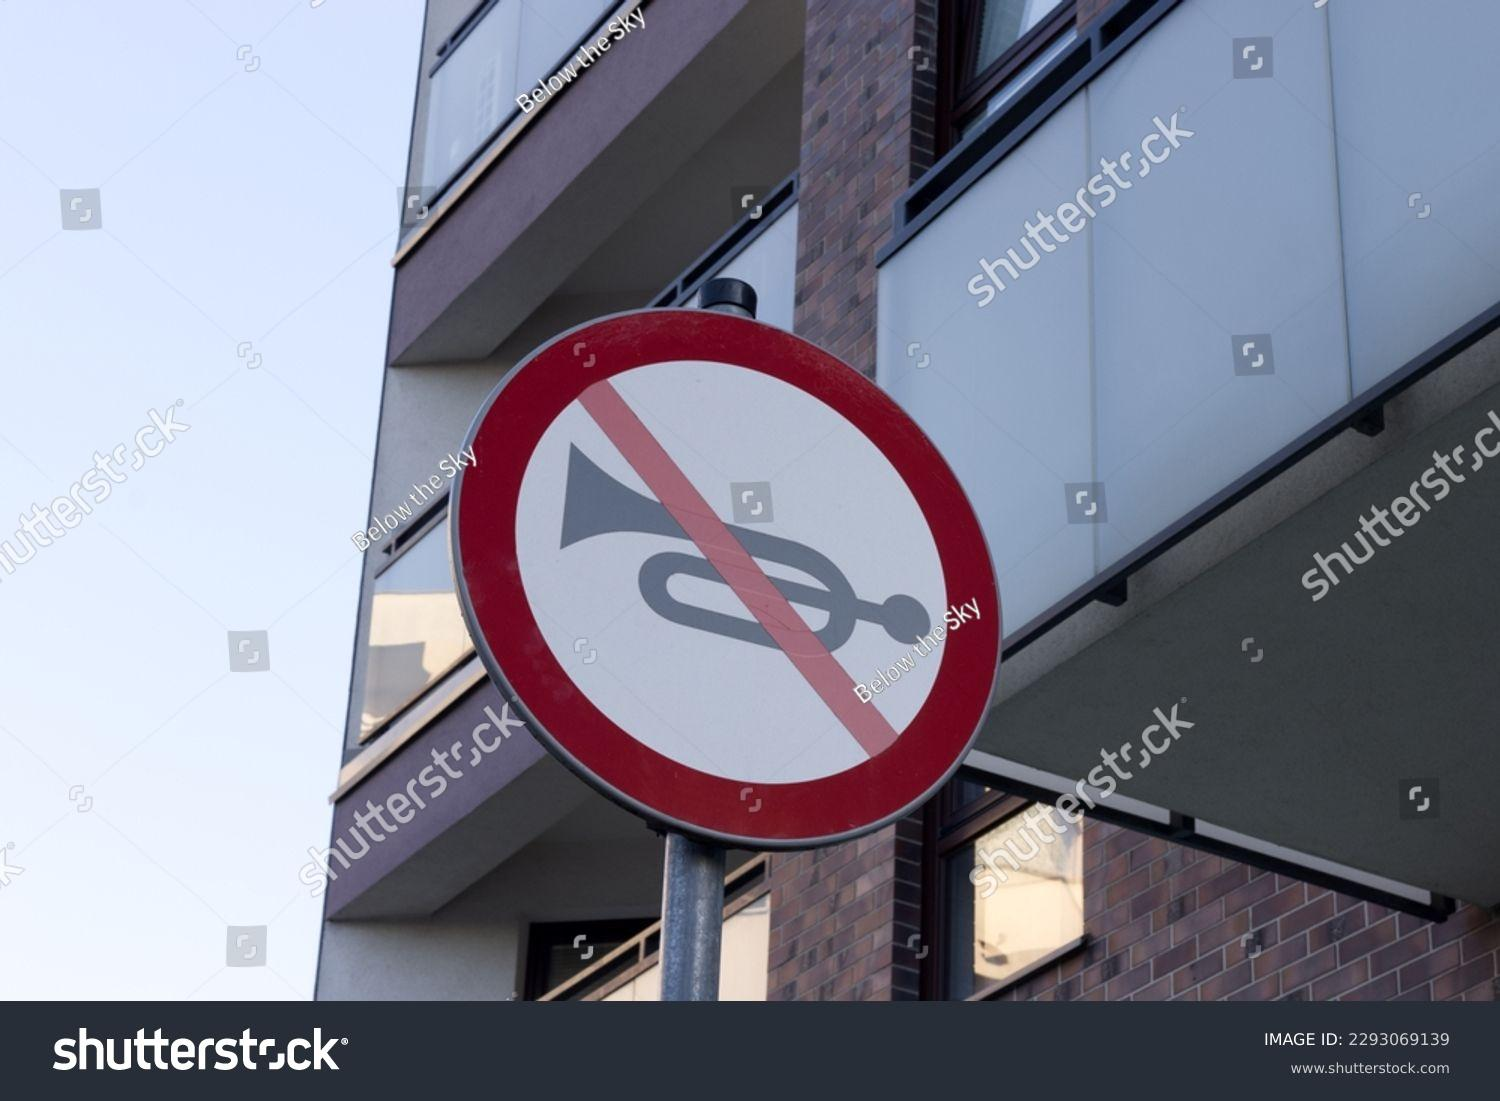Horn Prohibited: (392, 338, 1027, 849)
